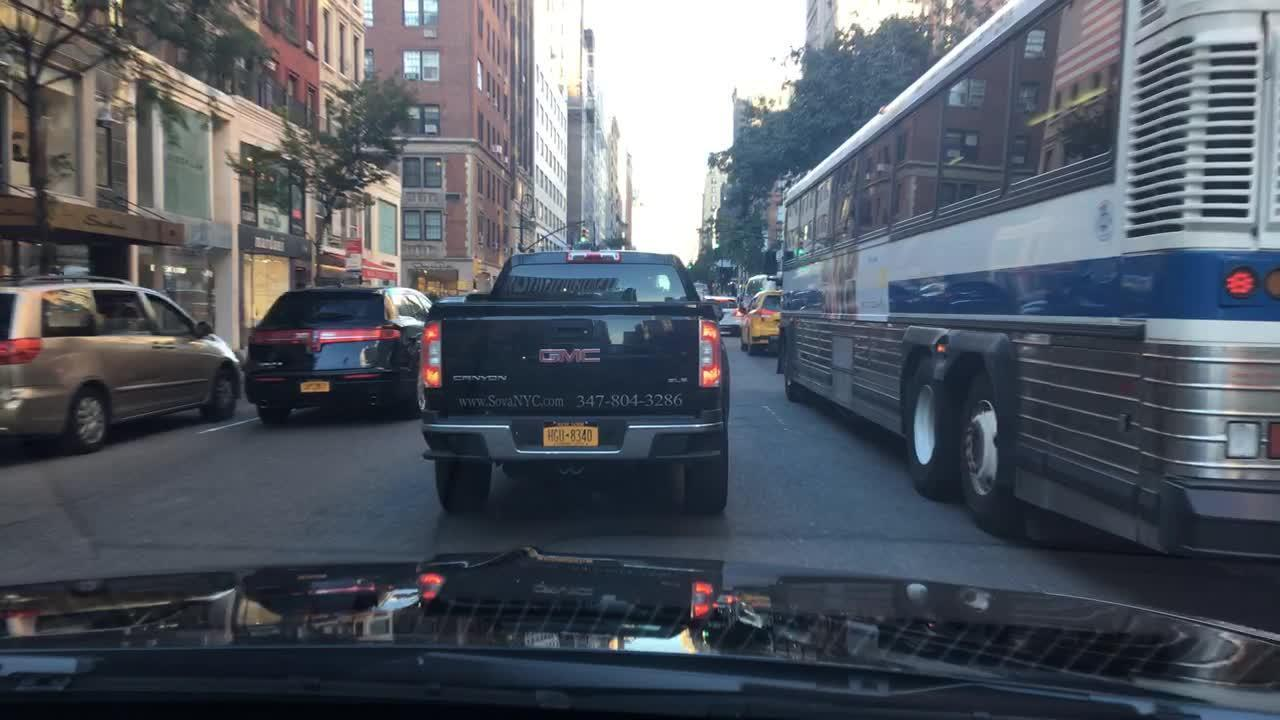Mazda: (533, 340, 607, 371)
lincoln: (307, 326, 326, 352)
